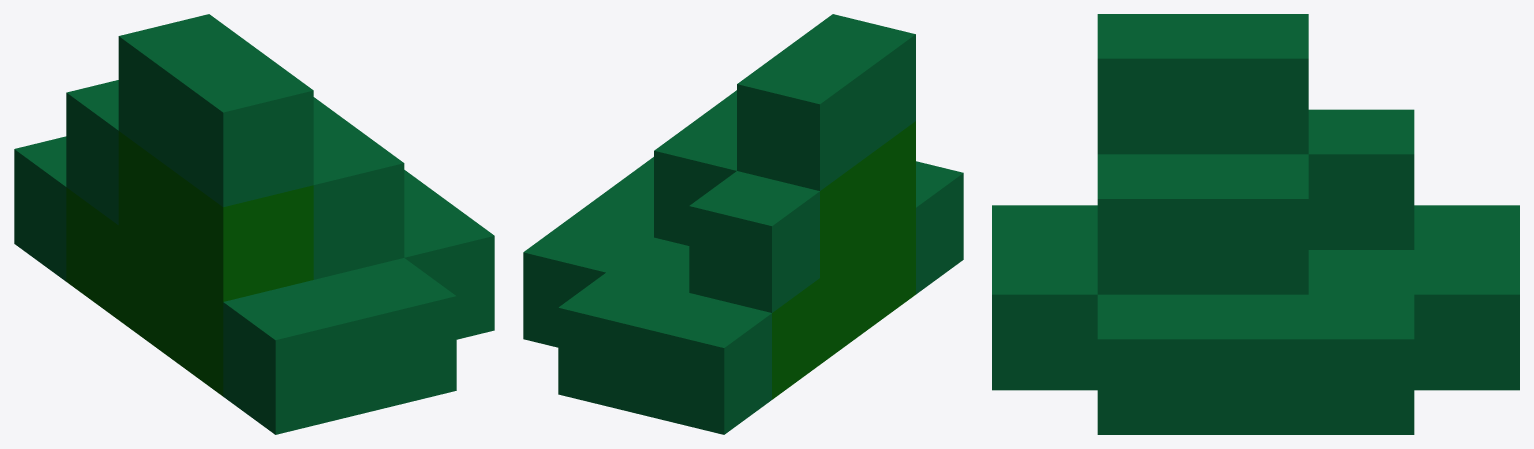
File: amnyam-1.obj
The picture shows the model from 3 angles, left to right: view 1: azimuth 30°, elevation 25°; view 2: azimuth 150°, elevation 25°; view 3: azimuth 270°, elevation 25°; orthographic projection. The views are drawn at different scales.
Size of the model in its own units: 0.3 by 0.3 by 0.5.
Materials: 1 (1 with a texture image).
